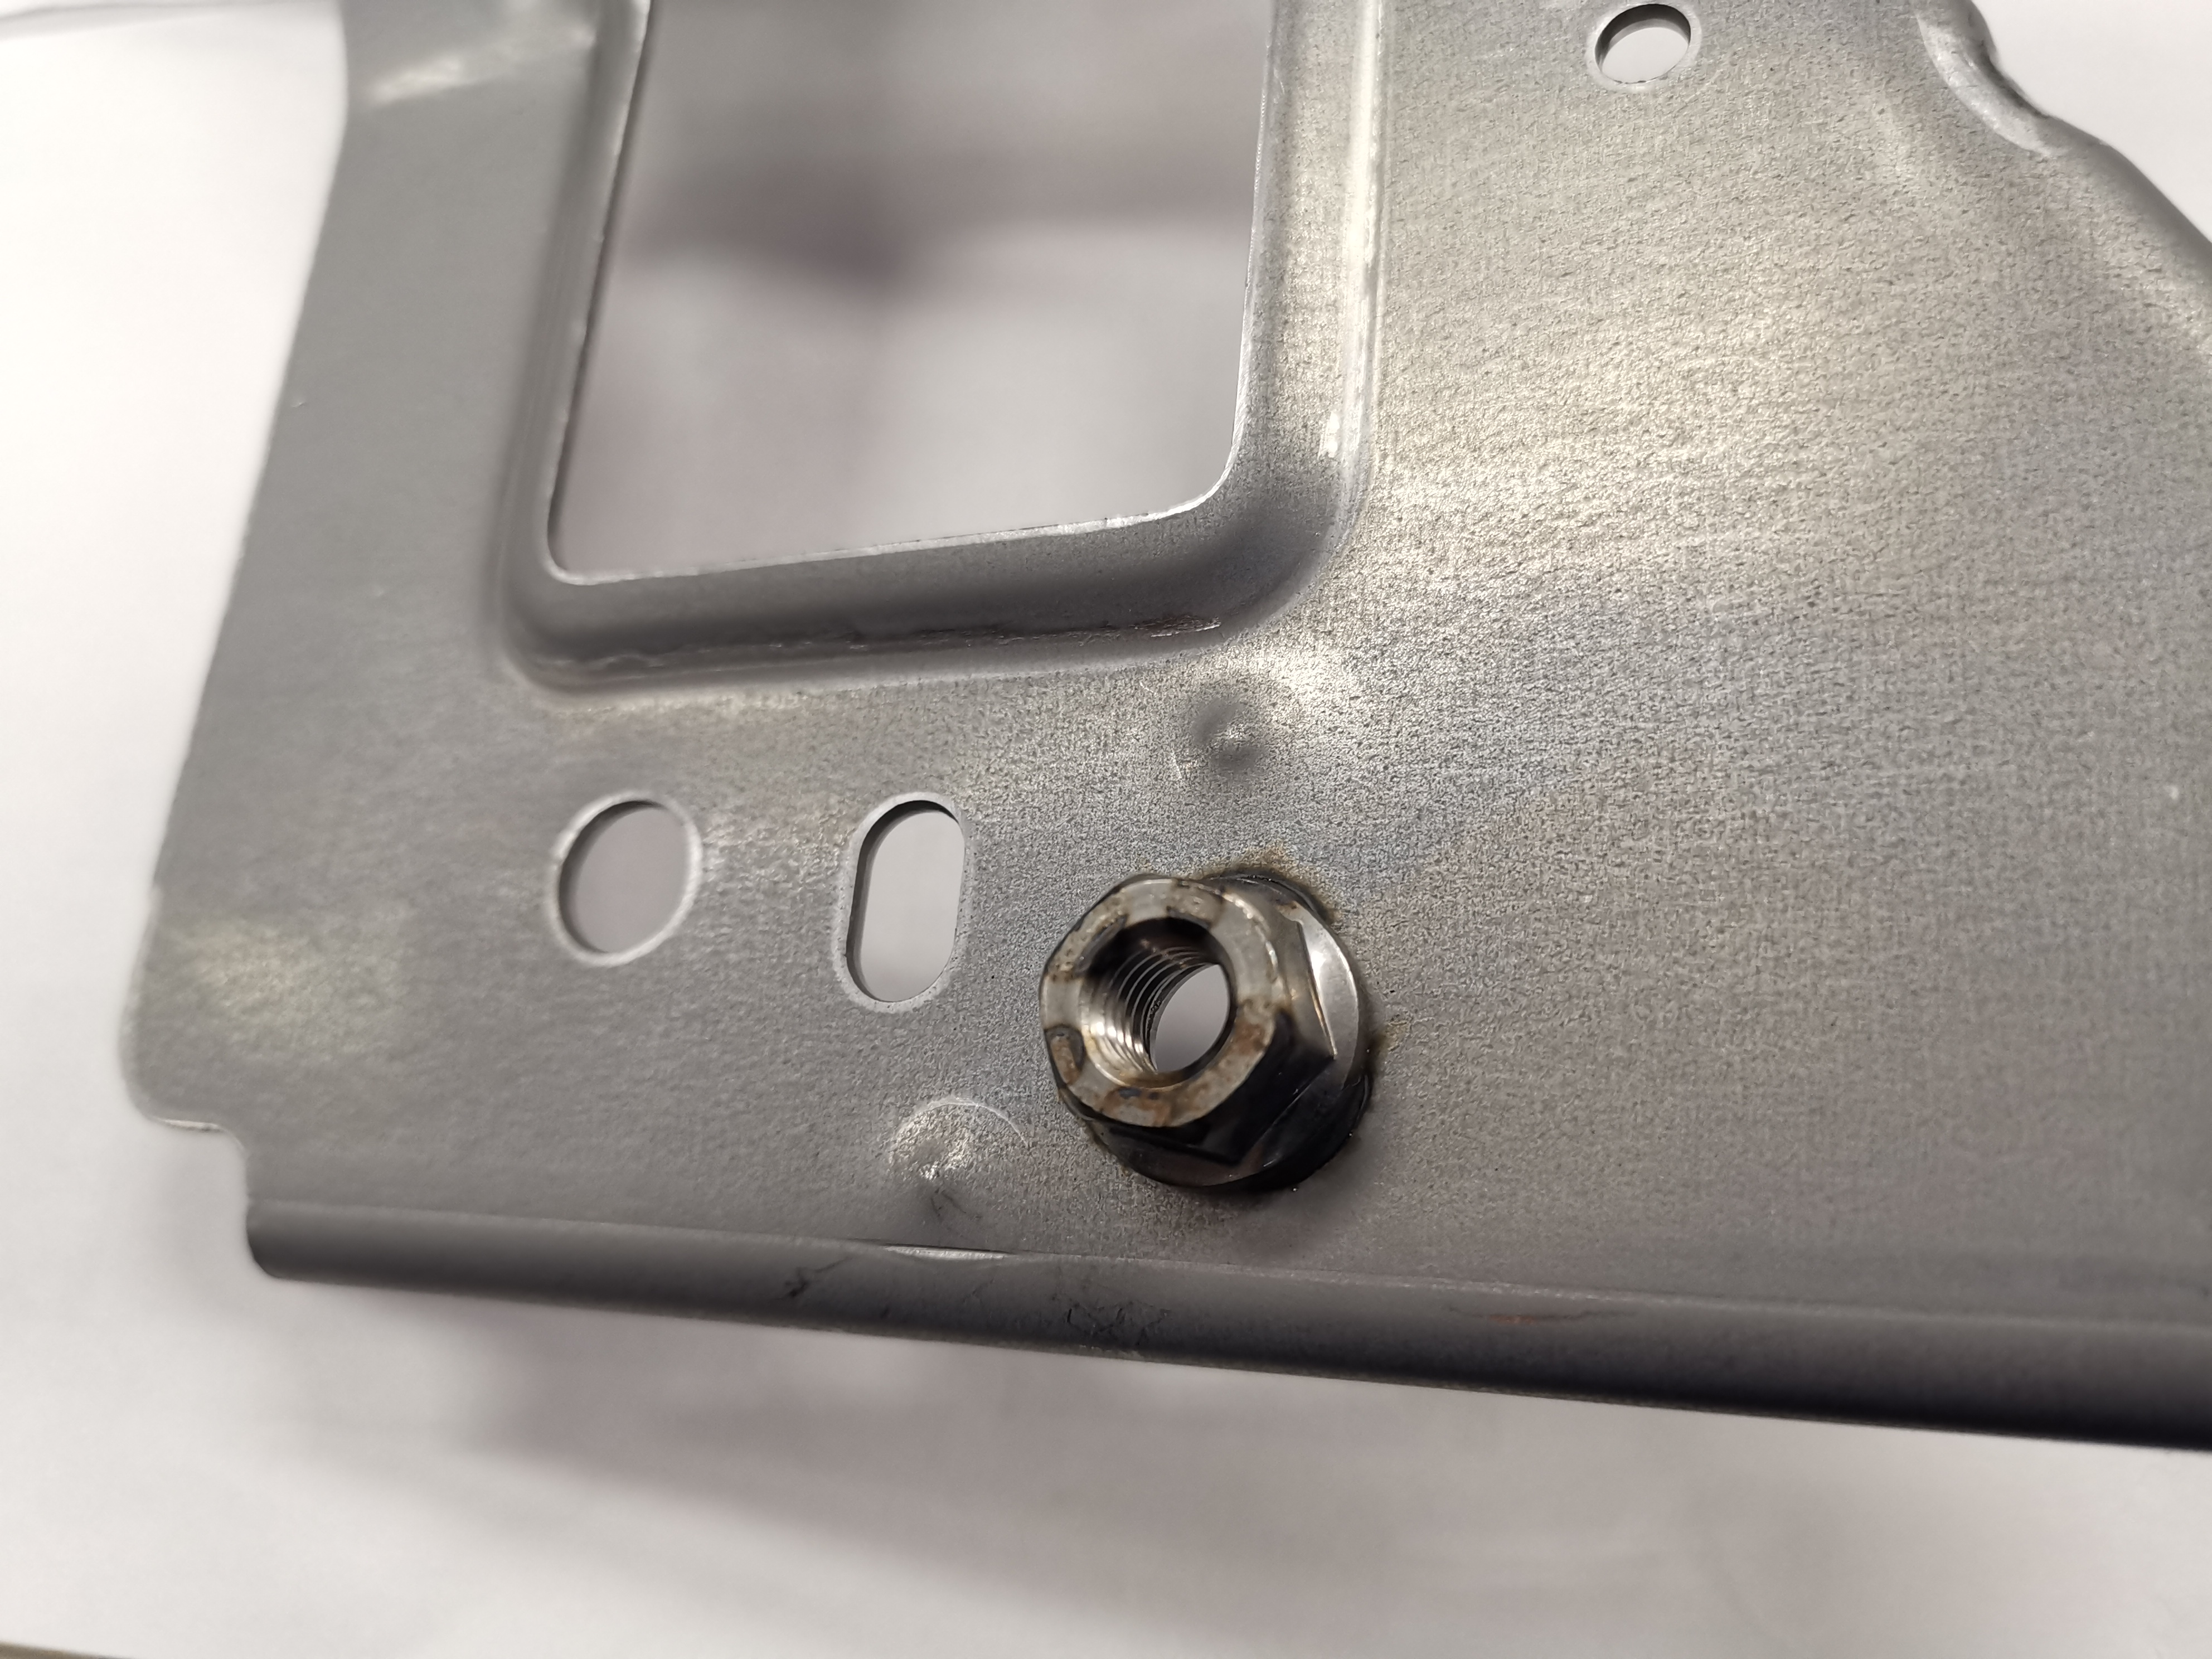dog: (1029, 850, 1388, 1202)
